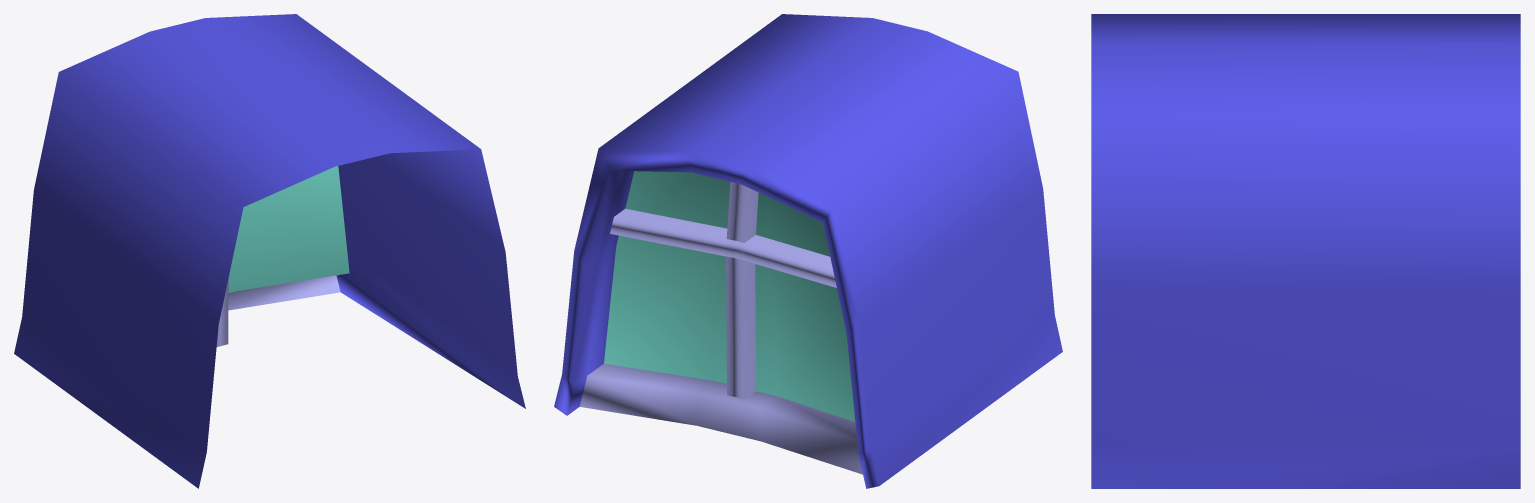
Rendered from Building_A_4.fbx.
The picture shows the model from 3 angles, left to right: view 1: azimuth 30°, elevation 25°; view 2: azimuth 150°, elevation 25°; view 3: azimuth 270°, elevation 25°; orthographic projection. The views are drawn at different scales.
Visible parts, largest first — view 1: Building_A_4; view 2: Building_A_4; view 3: Building_A_4.
Part boxes in pixels (x1,y1,x2,y2): Building_A_4: [14, 14, 525, 488]; Building_A_4: [554, 14, 1062, 488]; Building_A_4: [1091, 14, 1520, 488].
Bounding box in the file's own units: 113 × 97.3 × 110.
